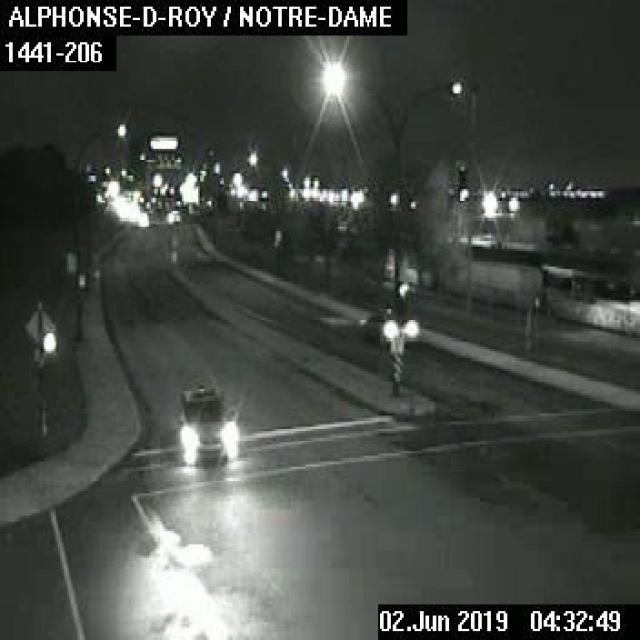vehicle: (173, 384, 236, 462), (356, 306, 421, 346)
